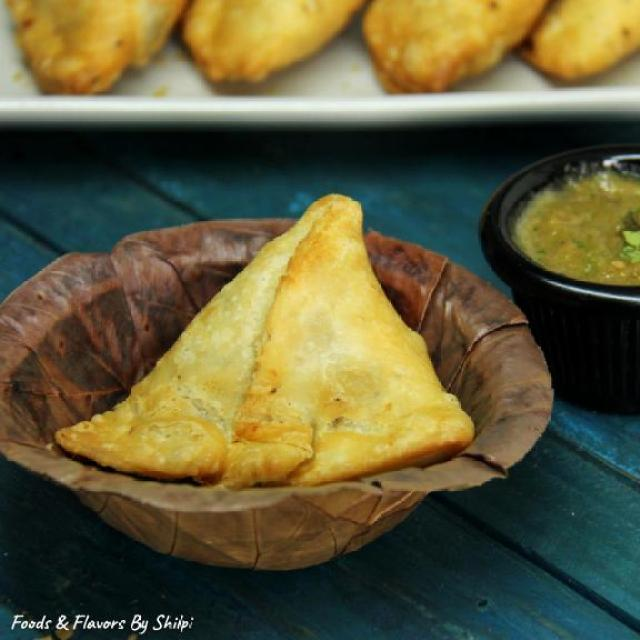SAMOSA: (54, 194, 472, 485)
